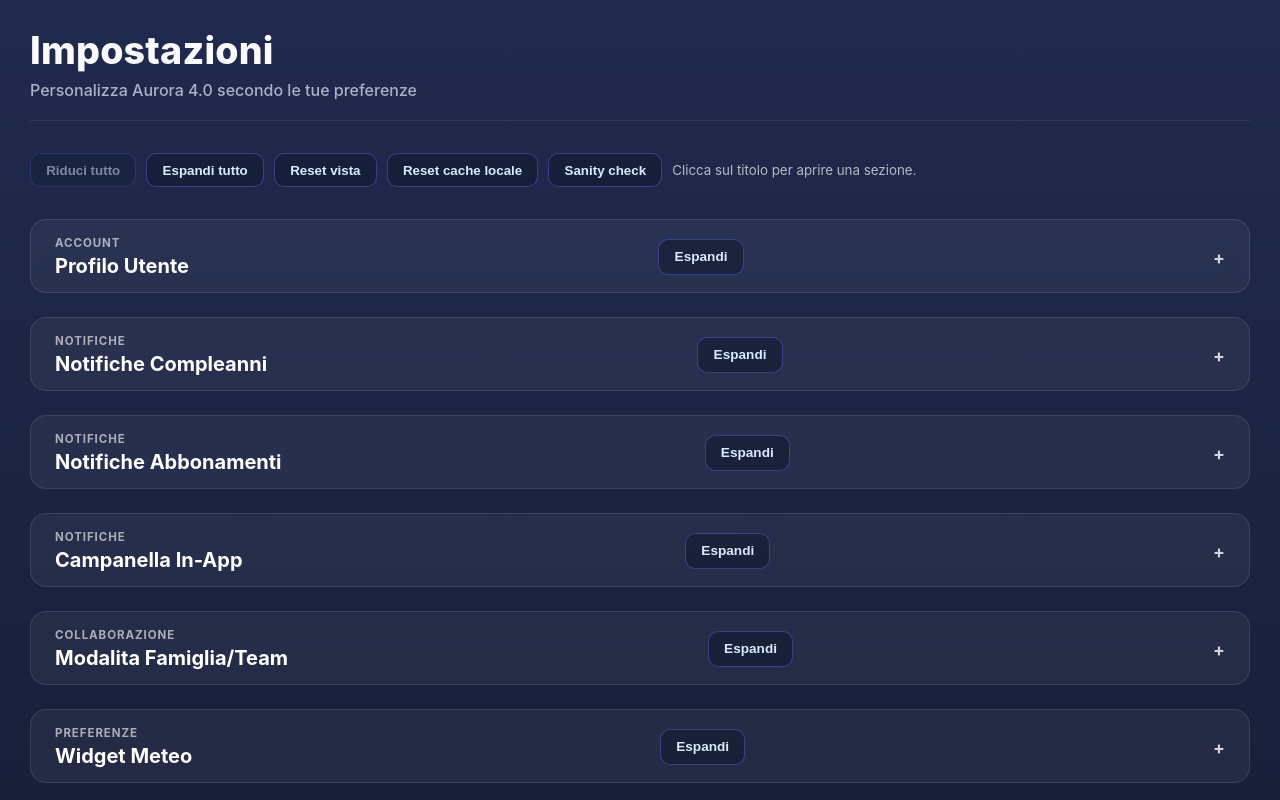
Test: SettingsContent basic interactions › renders compact view first and mounts section content when expanded
The image size is (1280, 800).
Expected: the heading "Impostazioni" is shown, [30,28,274,73]
Expected: the field labelled "Email per Notifiche" is not shown
What coordinates should you click on to do the following:
click the button "Espandi tutto"
I would click on:
 (205, 170)
Its box is [146,153,264,187].
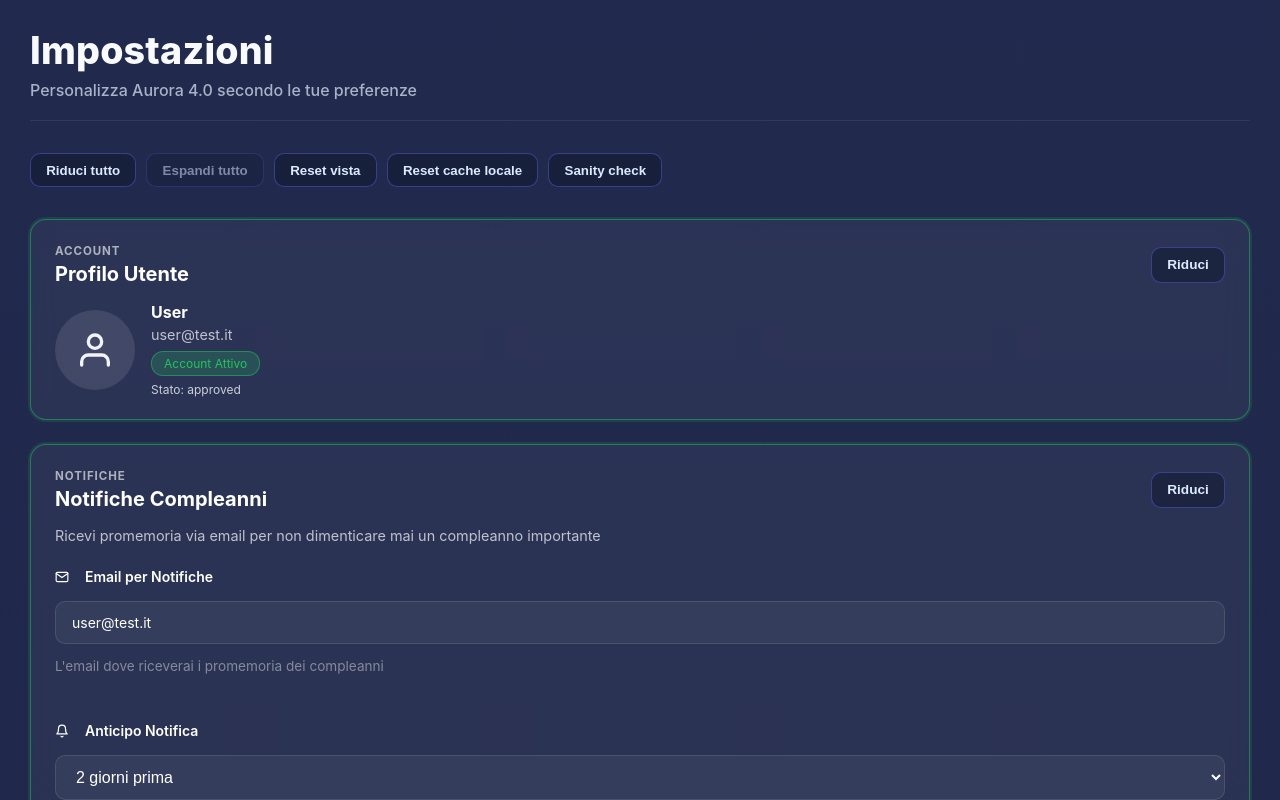
Expected: the button "Riduci tutto" is enabled
Expected: the field labelled "Email per Notifiche" is shown, [55,601,1225,644]
What coordinates should you click on to do the following:
click the button "Riduci tutto"
I would click on:
 (83, 170)
Its box is [30,153,136,187].
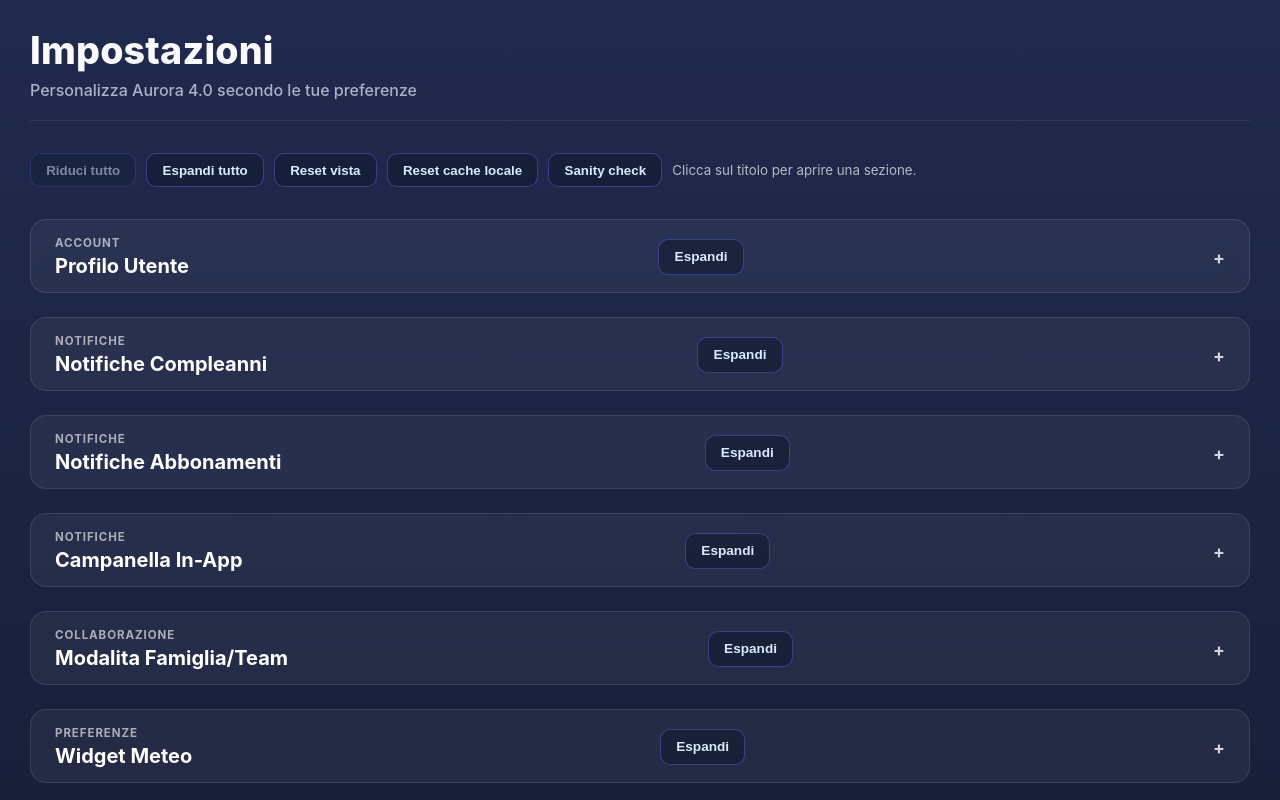
Expected: the button "Espandi tutto" is enabled, [146,153,264,187]
Expected: the label labelled "Email per Notifiche" is gone
